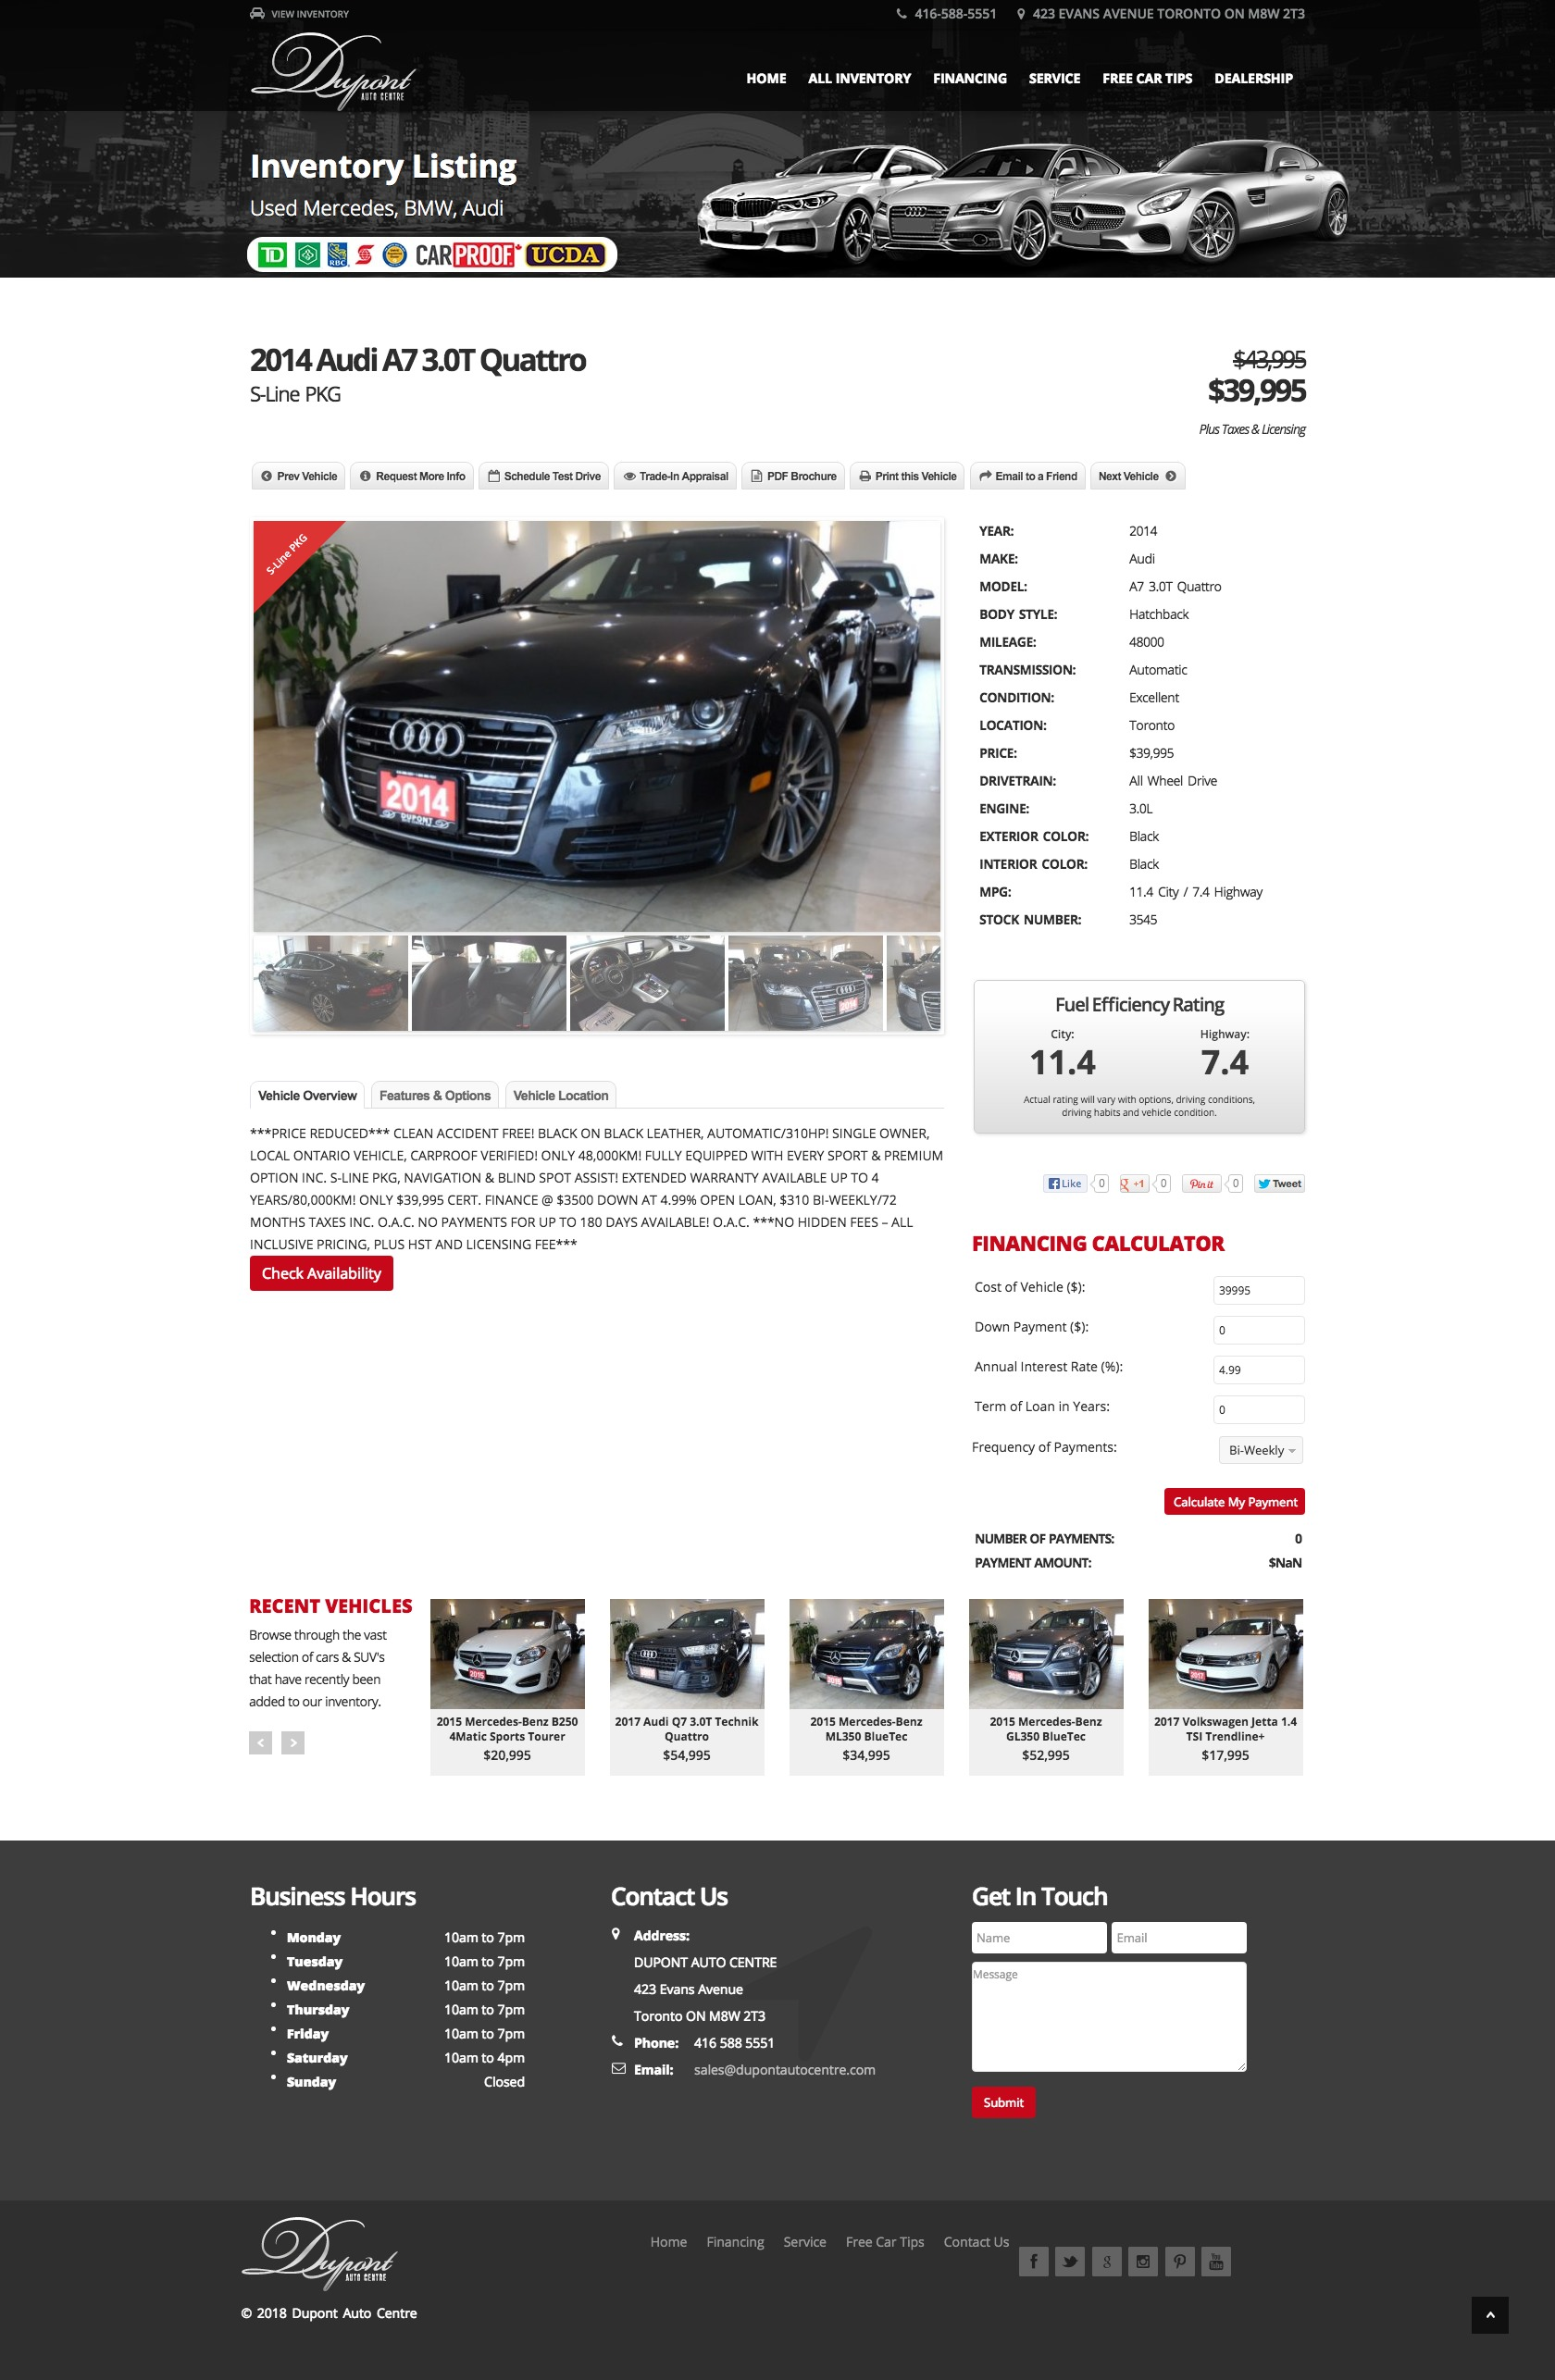car: (925, 937, 942, 1030)
